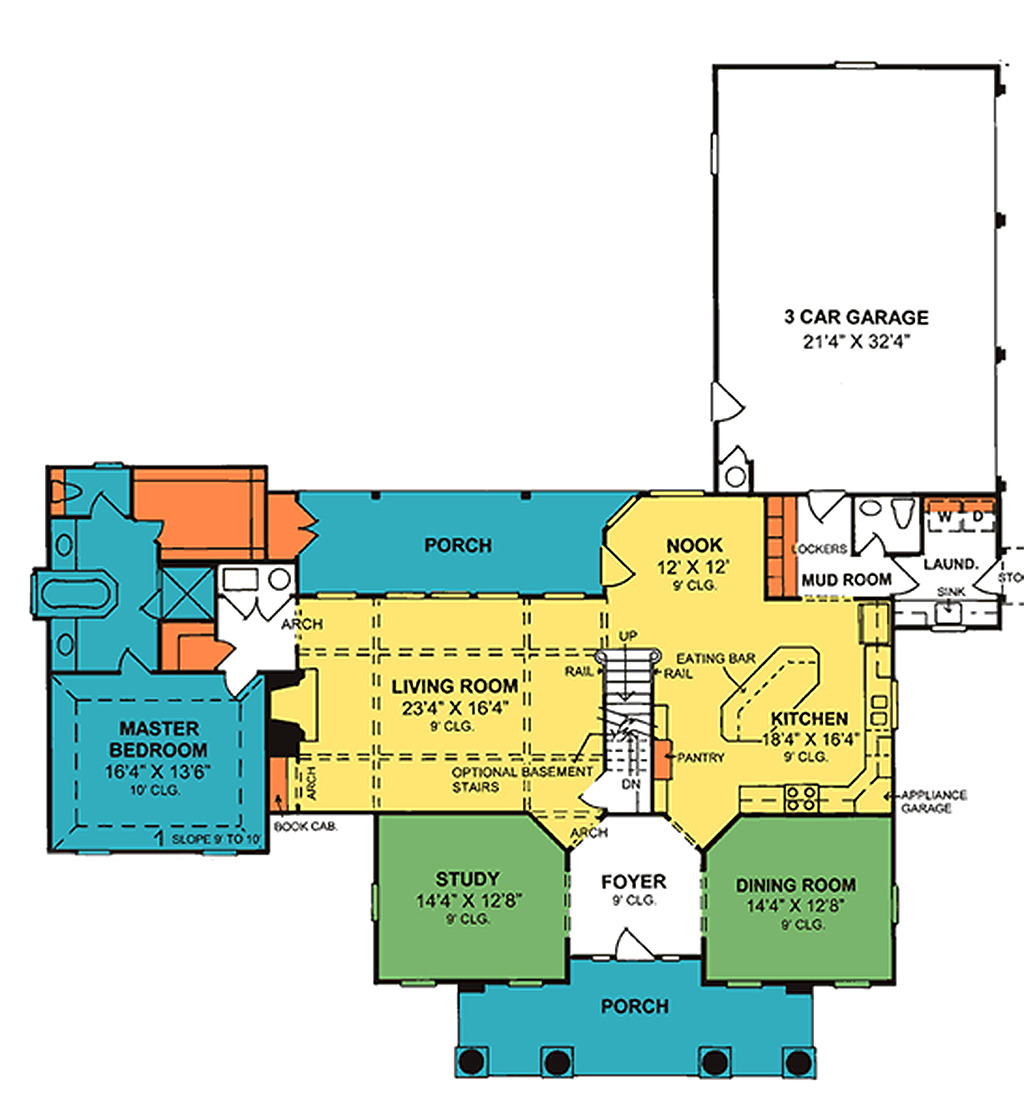door: (221, 588, 292, 630), (613, 922, 660, 969), (703, 374, 747, 424), (796, 489, 847, 528), (293, 501, 322, 565), (109, 639, 153, 679), (887, 556, 922, 603), (86, 489, 126, 526), (217, 669, 263, 700), (858, 527, 887, 561)
kitchen_bar: (712, 637, 820, 748)
large_sink: (884, 497, 917, 532)
small_sink: (47, 619, 77, 676), (50, 521, 78, 570)
stairs: (597, 645, 672, 810)
tub: (35, 564, 123, 625)
twin_sink: (865, 688, 898, 730)
